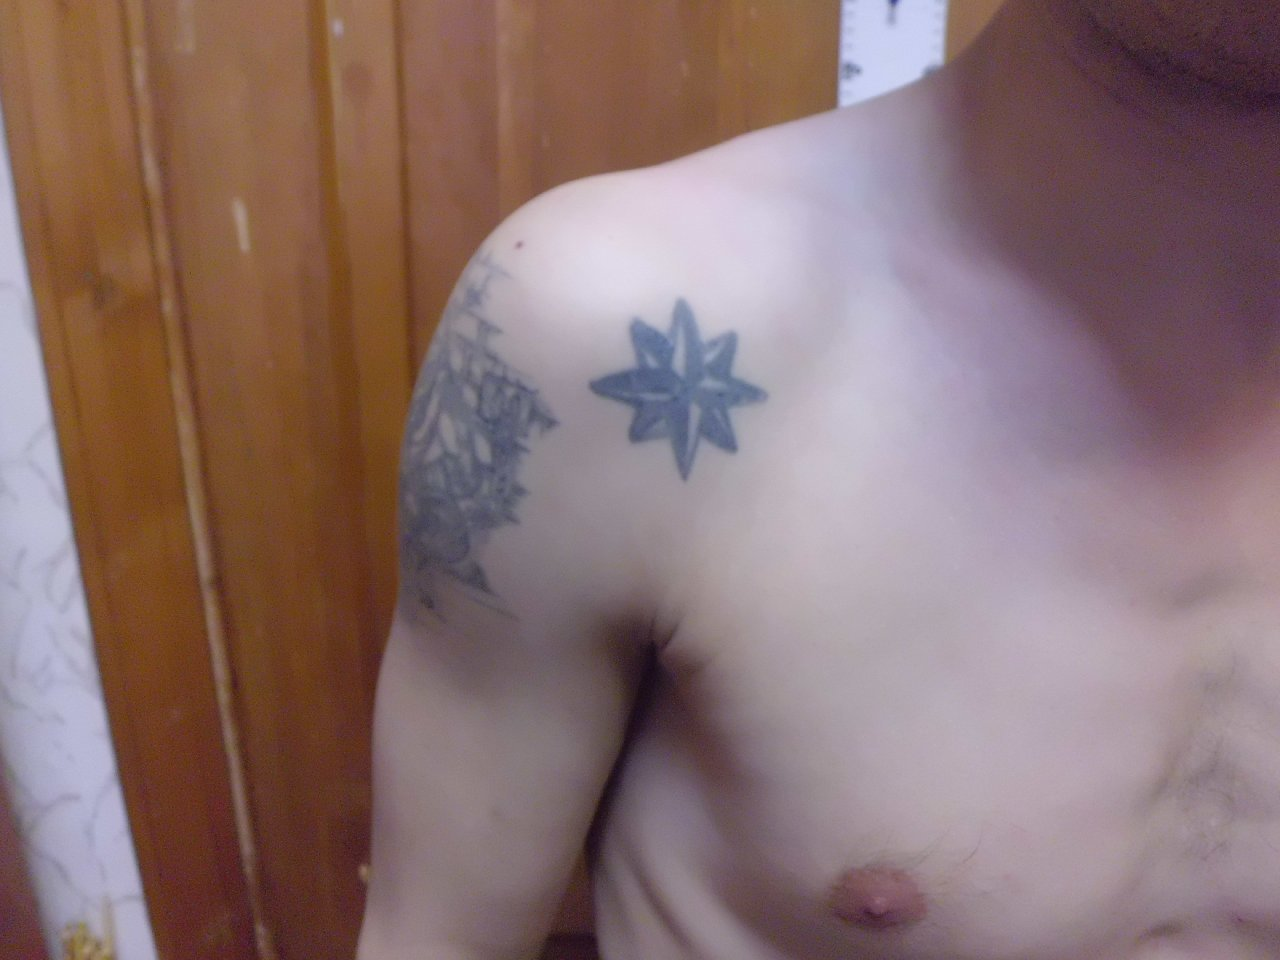tatu4_zvezda: (594, 298, 771, 482)
